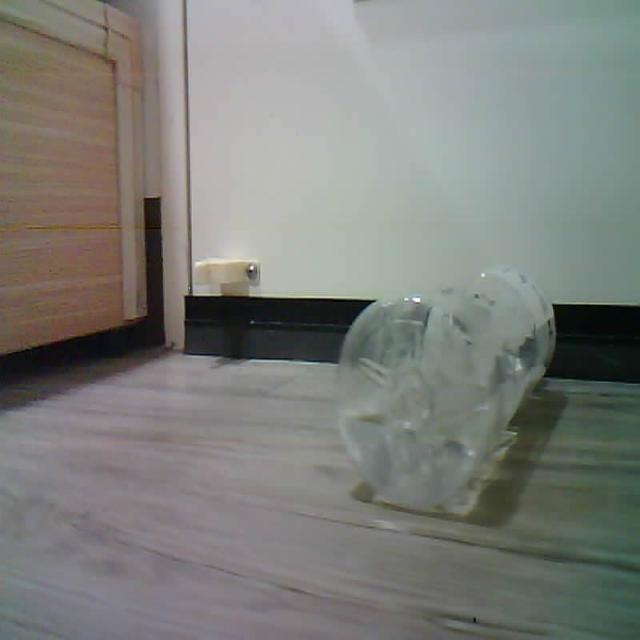bottle: (338, 268, 555, 510)
